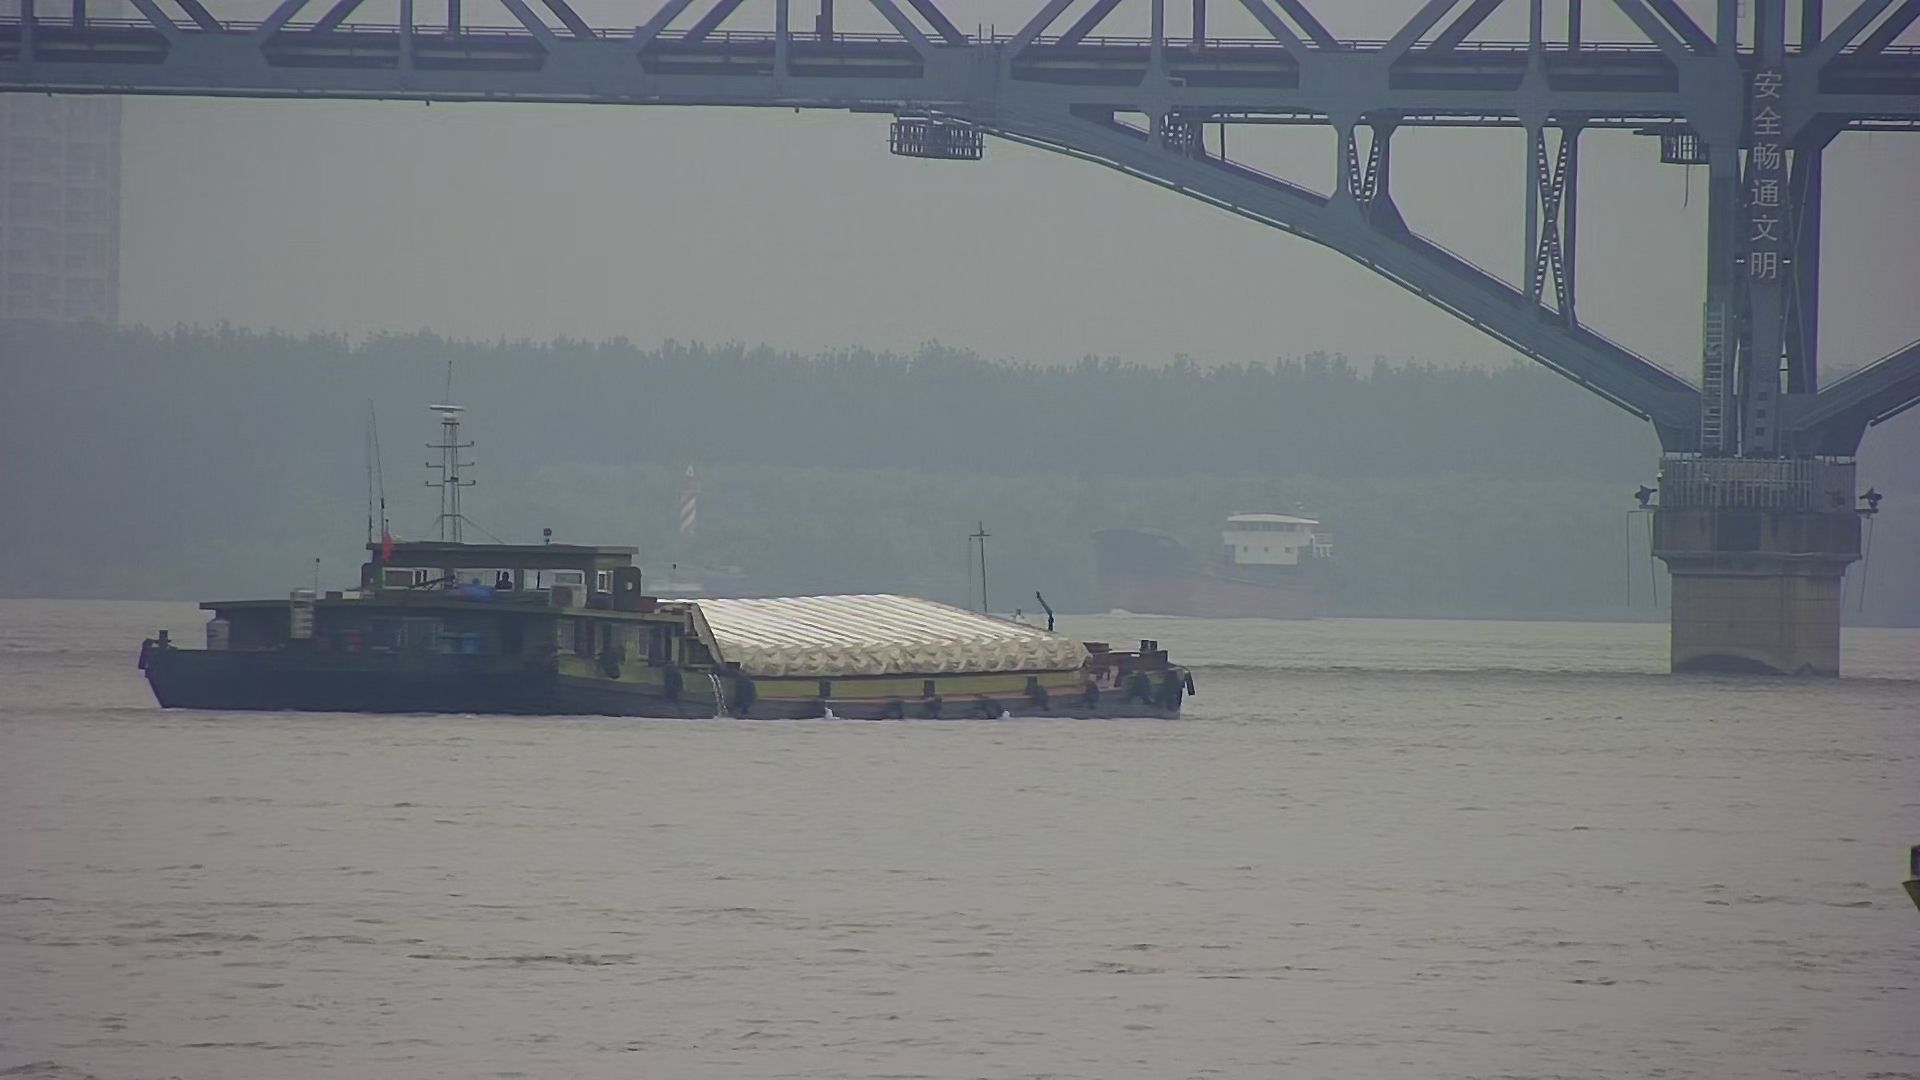bridge: (1, 1, 1916, 682)
ship: (121, 357, 1208, 728), (1065, 483, 1369, 632)
